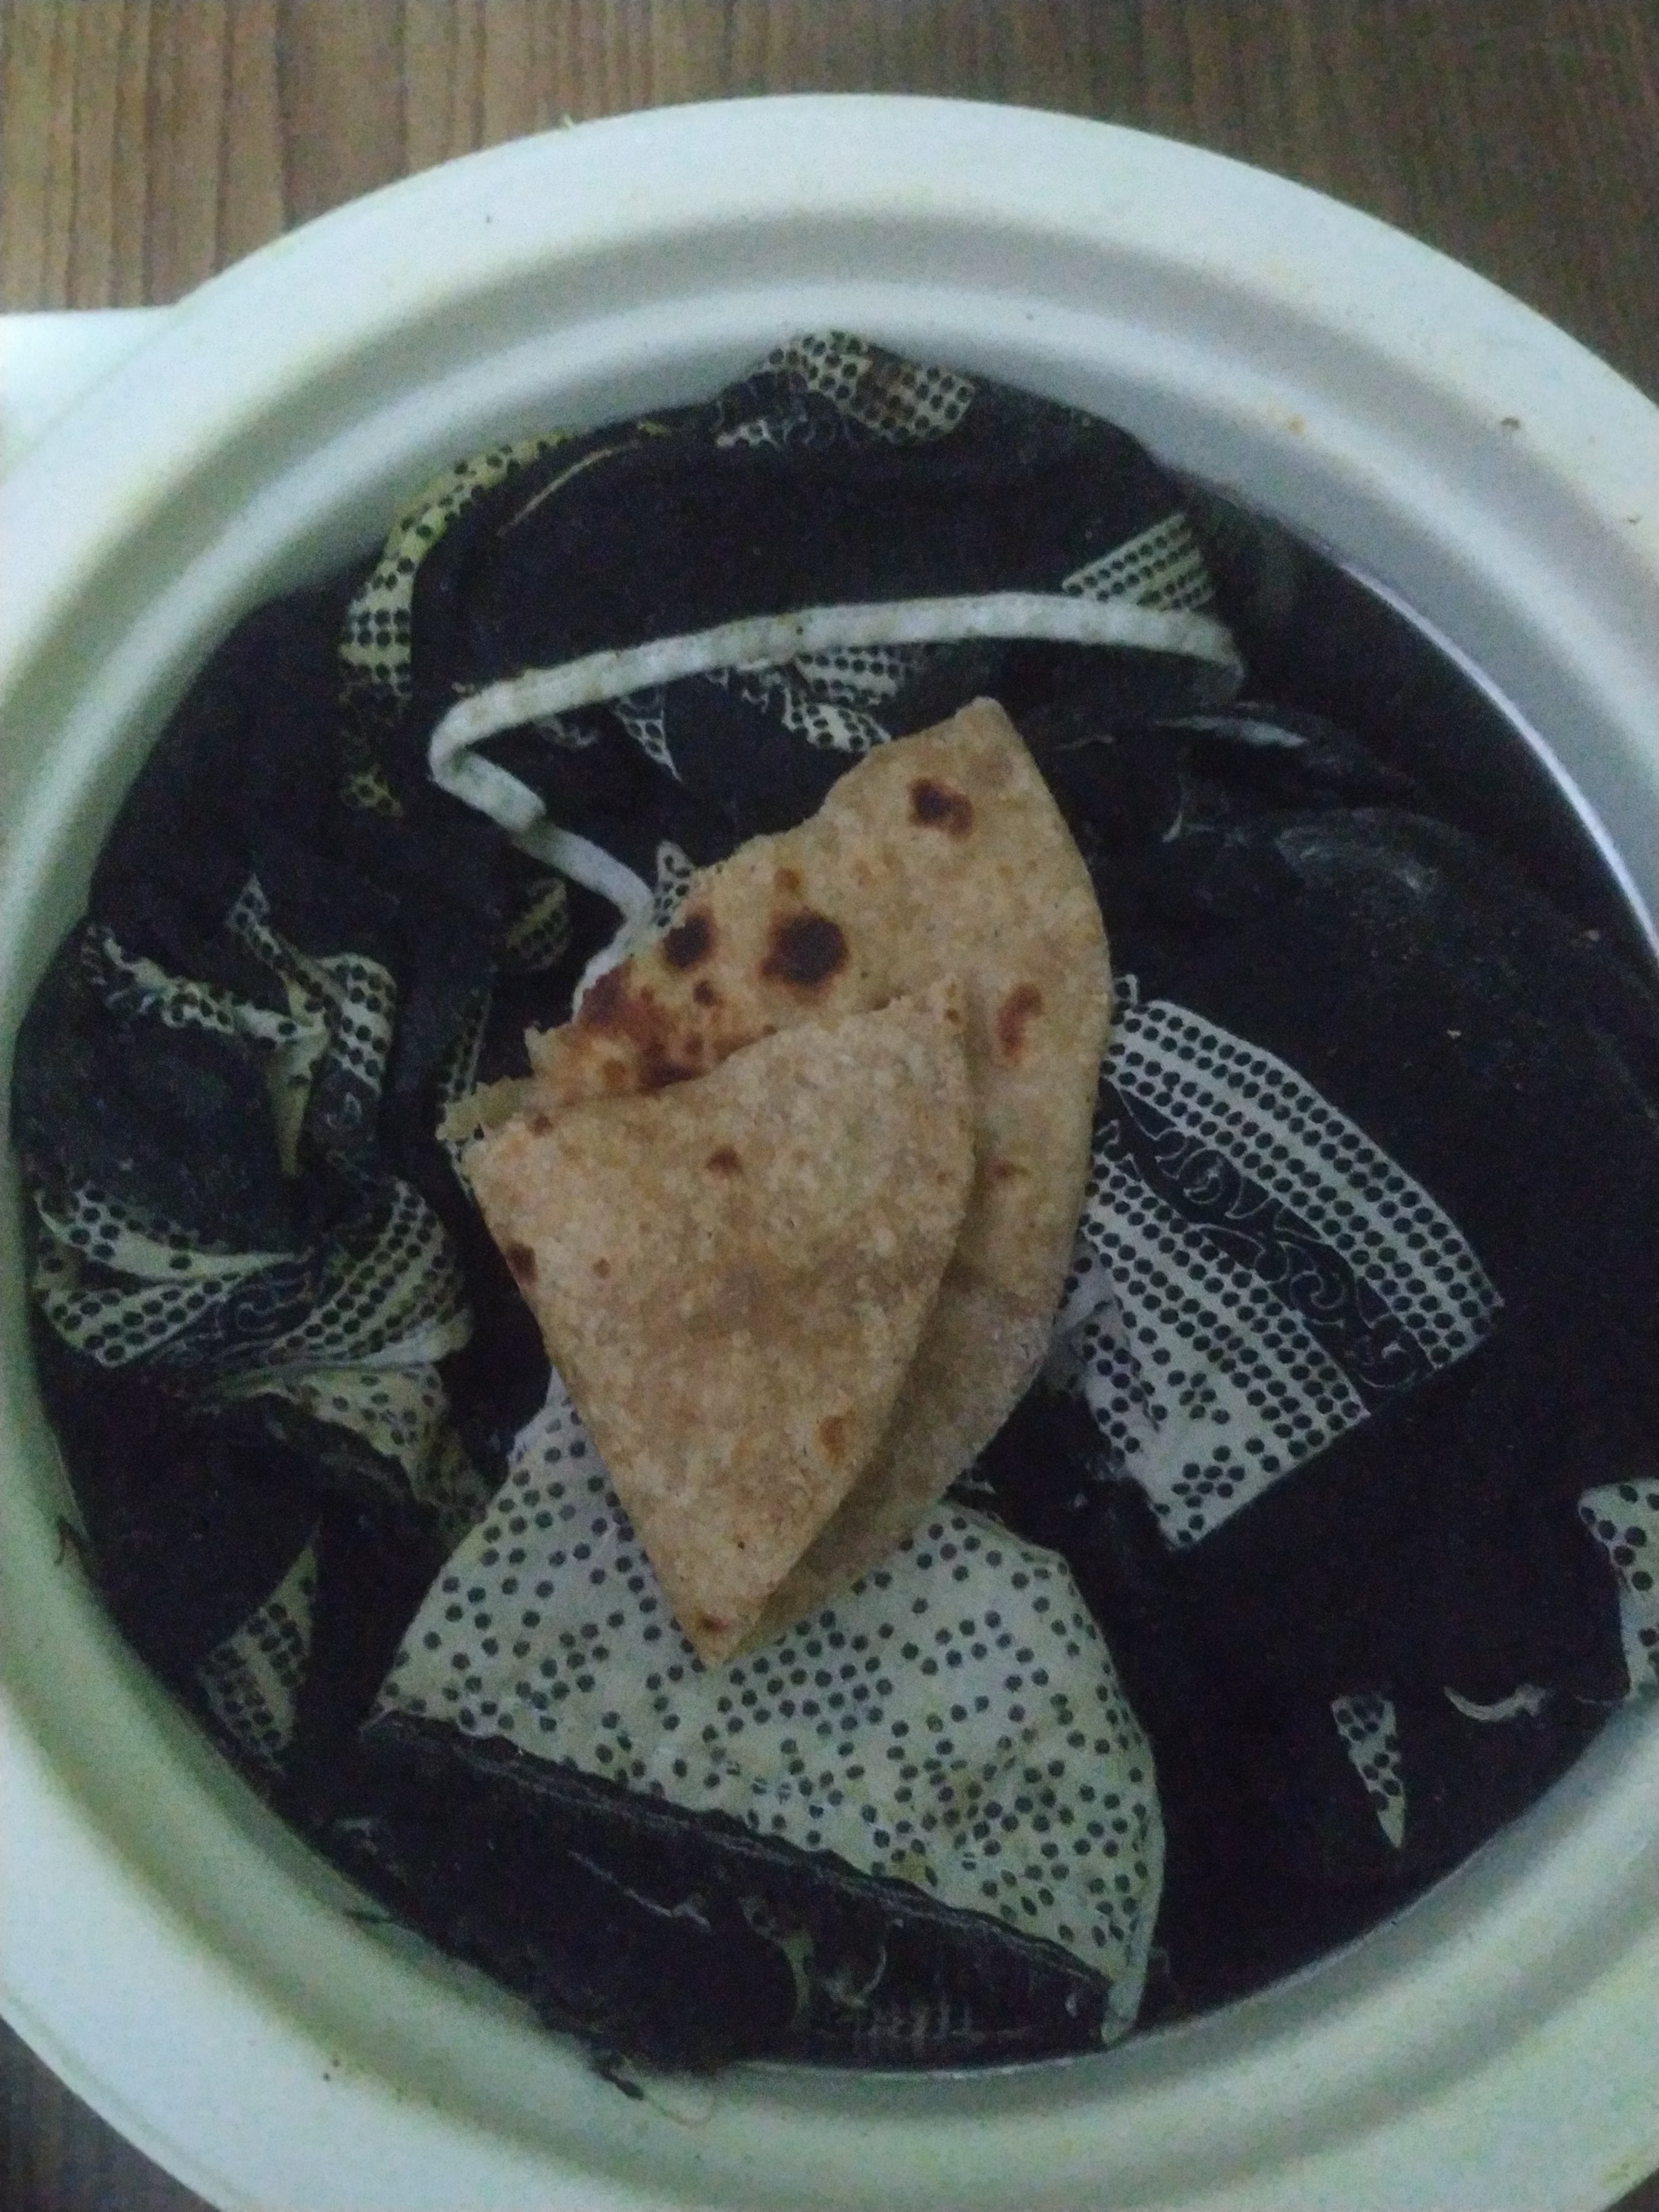food: (430, 683, 1124, 1674)
